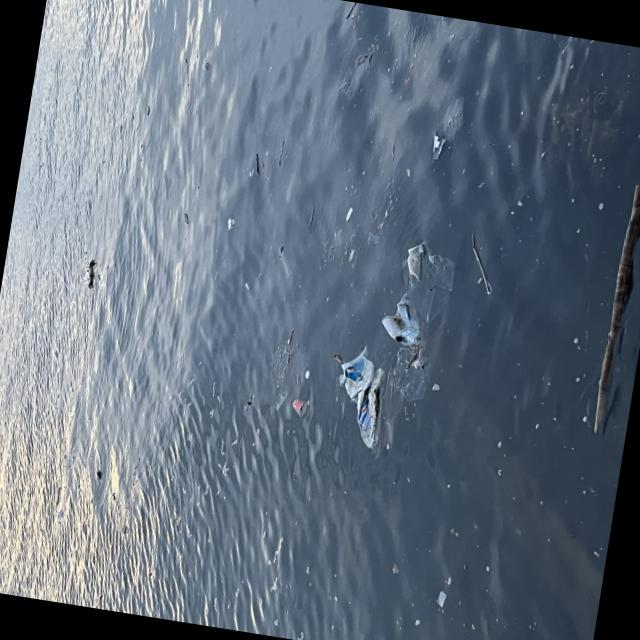foam: (227, 219, 237, 232), (347, 208, 355, 223)
plastic bag: (400, 244, 452, 394), (338, 350, 398, 451)
plastic bottle: (378, 315, 406, 343)
